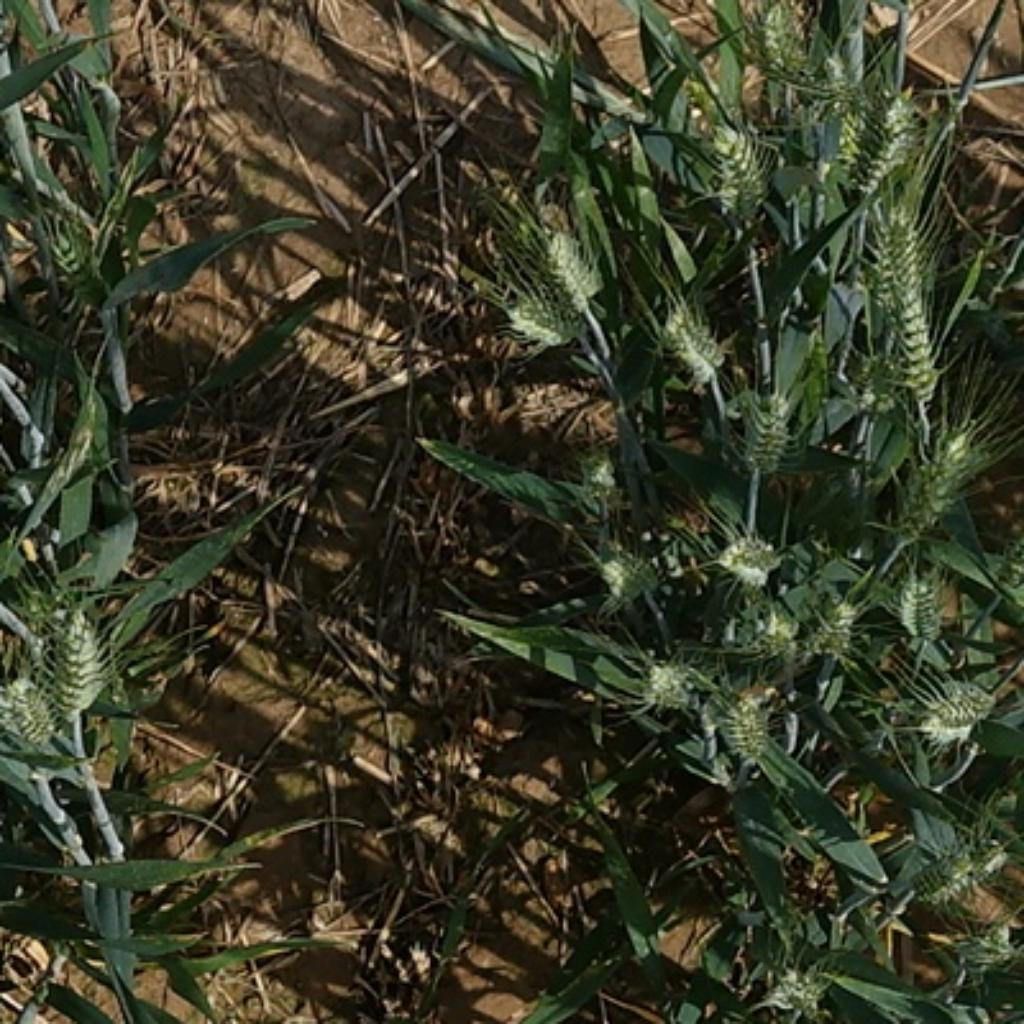0-0: (888, 422, 988, 536), (842, 76, 931, 189), (847, 192, 924, 317), (696, 107, 775, 222), (47, 606, 115, 732), (893, 263, 949, 401), (17, 205, 100, 297), (535, 207, 624, 289), (908, 834, 1006, 908), (653, 295, 730, 385), (739, 2, 816, 92), (735, 388, 800, 480), (848, 337, 918, 416), (496, 284, 581, 348), (883, 563, 949, 645), (755, 954, 834, 1021), (711, 686, 780, 762), (945, 912, 1024, 976), (629, 647, 704, 714), (711, 522, 785, 588), (916, 670, 993, 732), (0, 674, 52, 759), (729, 588, 793, 657), (811, 591, 867, 665), (602, 547, 662, 598)
